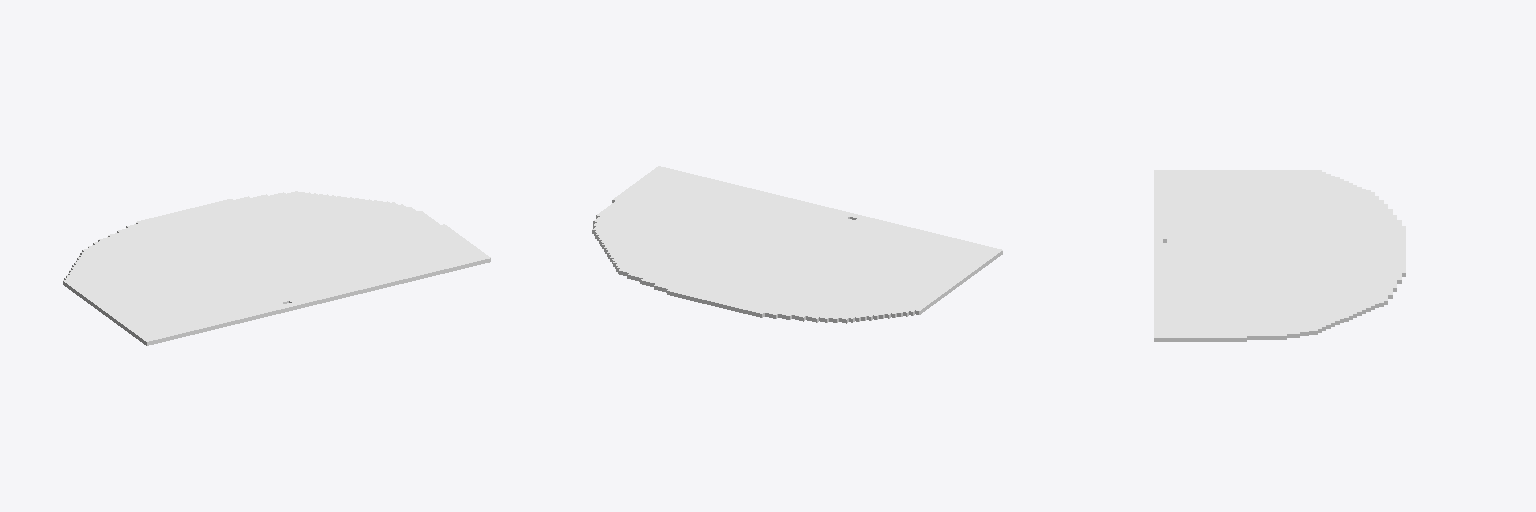
The model's file is zakretSkosOstryLod.obj.
3 renders of one model, left to right at view 1: azimuth 30°, elevation 25°; view 2: azimuth 150°, elevation 25°; view 3: azimuth 270°, elevation 25°, orthographic.
Visible parts, largest first — view 1: object 1; view 2: object 1; view 3: object 1.
Part boxes in pixels (x1,y1,x2,y2): object 1: (63,191,490,345); object 1: (592,166,1002,323); object 1: (1154,170,1405,341).
Bounding box in the file's own units: 9 × 0.1 × 5.7.